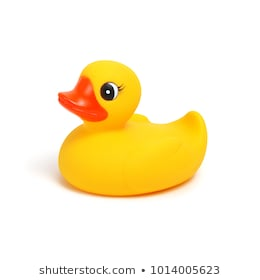duck: (44, 46, 212, 201)
